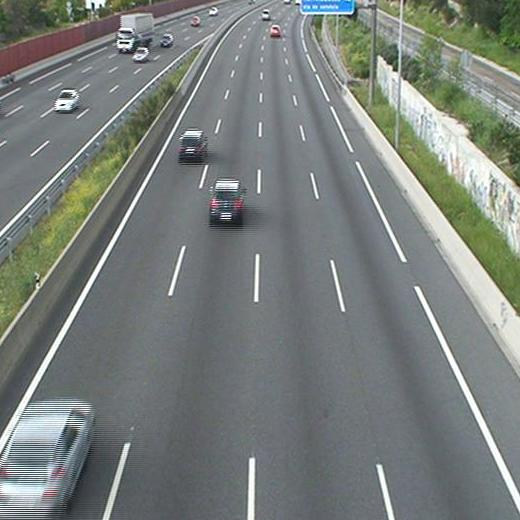car: (1, 400, 93, 520), (210, 180, 244, 220), (180, 131, 208, 157), (270, 25, 281, 37), (261, 9, 270, 20)
